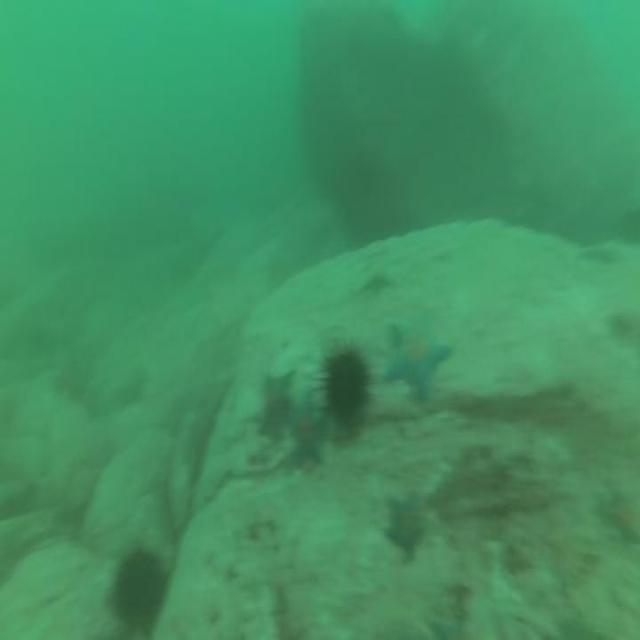echinus: (104, 540, 172, 637), (318, 343, 374, 439)
starfish: (380, 311, 454, 411), (380, 482, 434, 564), (284, 394, 332, 476), (256, 357, 294, 449)
